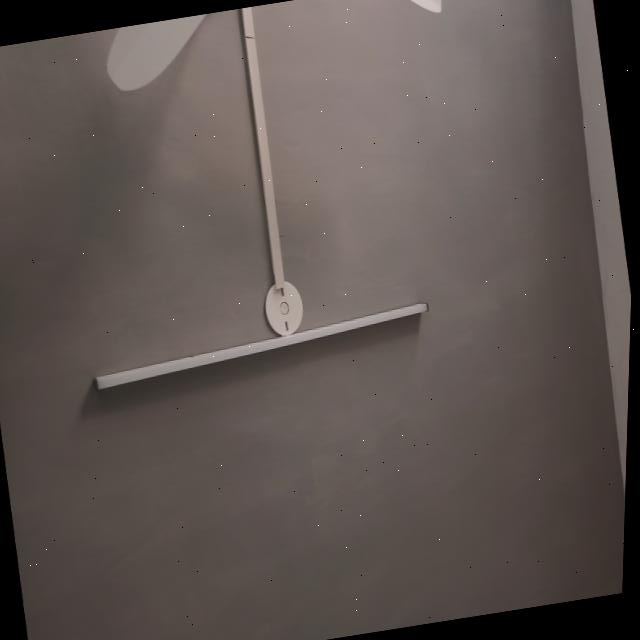fluorescent tube: (77, 270, 445, 419)
